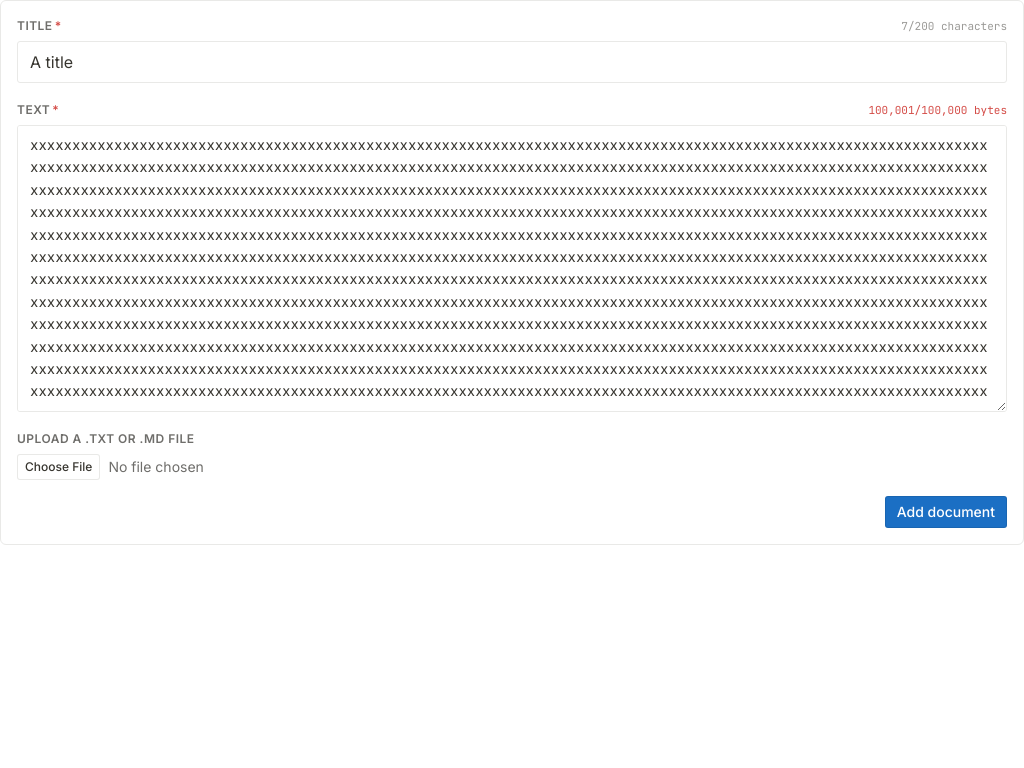
Test: DocumentForm › refuses typed text past the byte limit before sending it
Click the button "Add document": {"x": 946, "y": 512} [885,496,1007,528]
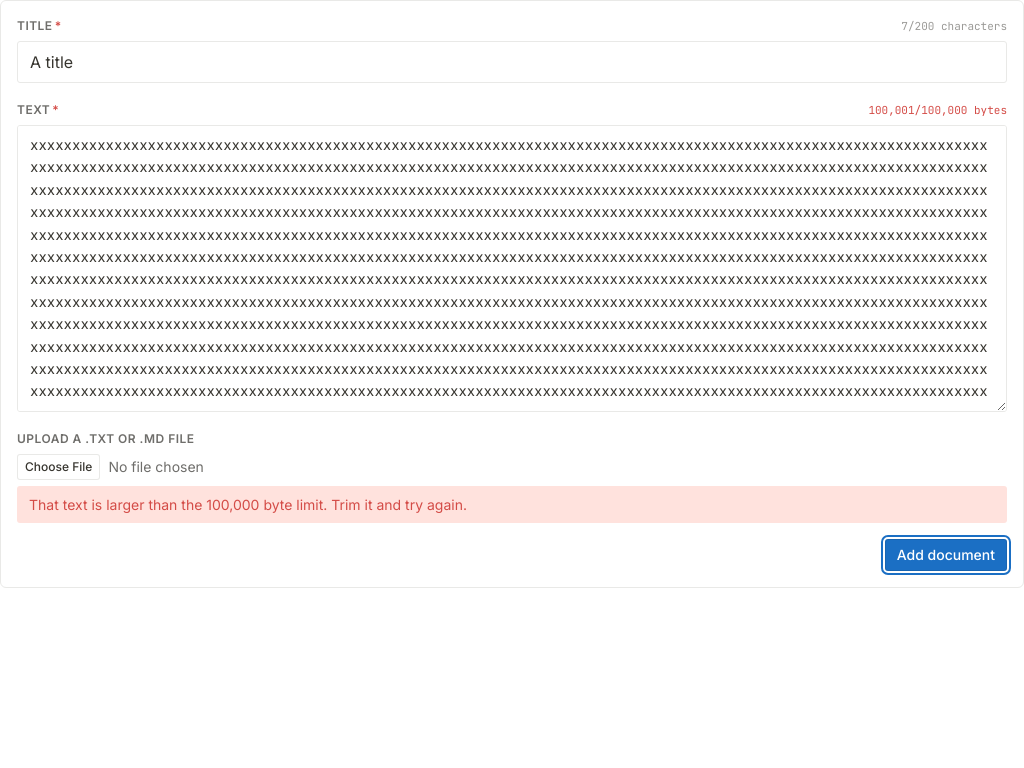
Expected: the message reads "That text is larger than the 100,000 byte limit. Trim it and try again.", [29,496,467,513]
